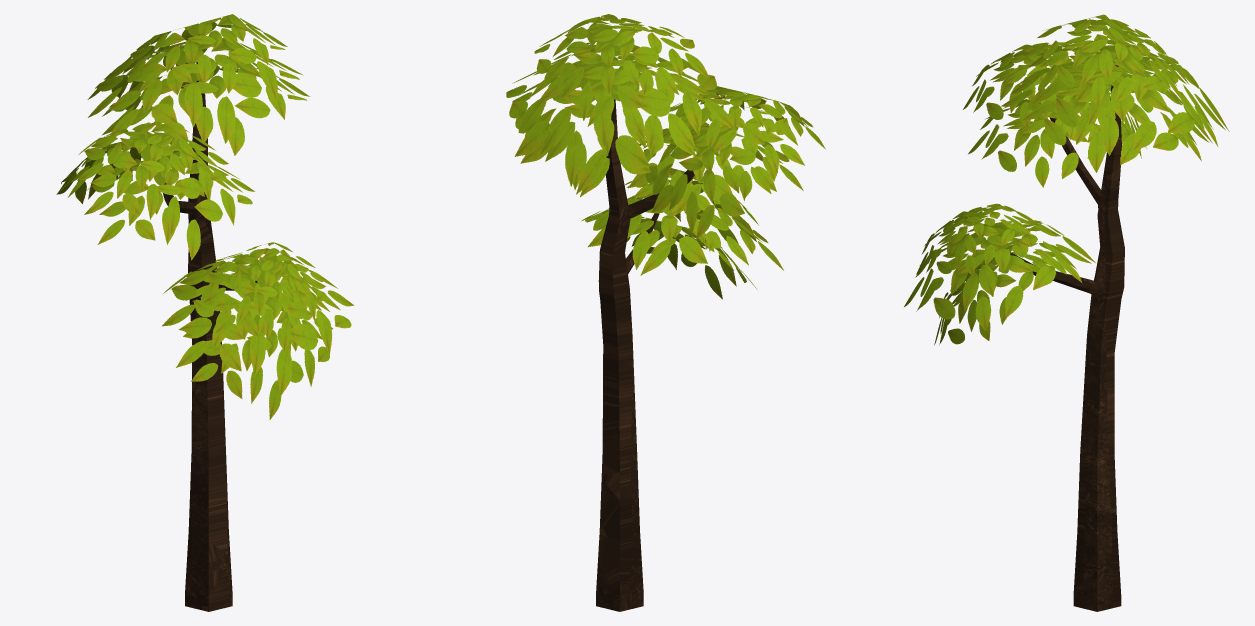
File: Tree_01.fbx
3 renders of one model, left to right at view 1: azimuth 30°, elevation 25°; view 2: azimuth 150°, elevation 25°; view 3: azimuth 270°, elevation 25°, orthographic.
Visible parts, largest first — view 1: A2; view 2: A2; view 3: A2.
Part boxes in pixels (x1,y1,x2,y2): A2: (56, 14, 354, 611); A2: (506, 14, 825, 611); A2: (904, 14, 1229, 611).
Size of the model in its own units: 19.51 by 37.84 by 21.
